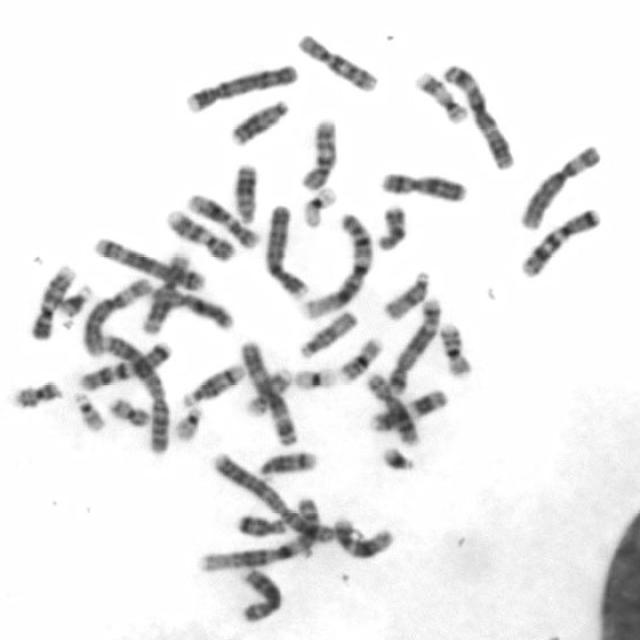A1: (195, 494, 322, 576), (297, 209, 376, 322)
A2: (207, 447, 335, 547), (83, 331, 174, 456)
A3: (438, 58, 518, 171), (236, 337, 298, 446)
B4: (180, 59, 300, 115), (260, 201, 310, 300)
B5: (90, 233, 208, 292), (384, 293, 443, 395)
C10: (292, 29, 380, 94), (296, 114, 339, 191)
C11: (137, 248, 192, 335), (366, 385, 450, 433)
C12: (183, 190, 260, 250), (330, 512, 396, 561)
C6: (516, 141, 602, 230), (79, 272, 153, 358)
C7: (516, 203, 602, 279), (76, 337, 172, 392)
C8: (362, 371, 421, 447), (236, 564, 284, 624)
C9: (25, 260, 78, 342), (162, 205, 235, 262)
D13: (226, 96, 292, 148), (228, 160, 260, 224)
D14: (178, 360, 247, 408), (255, 446, 318, 477)
D15: (294, 307, 359, 359), (378, 267, 433, 323)
E16: (335, 334, 385, 383), (437, 318, 473, 378)
E17: (409, 67, 469, 126), (242, 364, 295, 418)
E18: (374, 201, 409, 252), (233, 511, 288, 538)
F19: (297, 182, 338, 230), (290, 363, 340, 392)
F20: (10, 376, 63, 409), (105, 394, 152, 429)
G21: (56, 281, 94, 320), (377, 443, 416, 473)
G22: (70, 388, 107, 433), (170, 404, 205, 442)
X: (140, 284, 236, 334), (377, 168, 469, 204)
